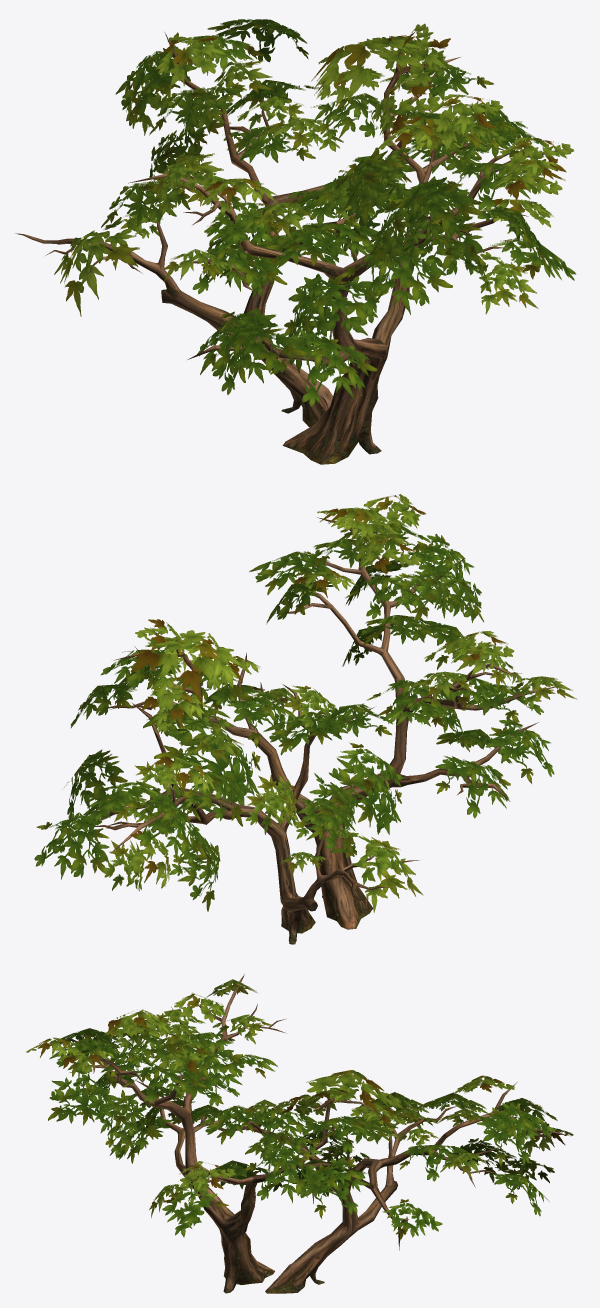
Rendered from q01a_tree_04.FBX.
The picture shows the model from 3 angles, top to bottom: view 1: azimuth 30°, elevation 25°; view 2: azimuth 150°, elevation 25°; view 3: azimuth 270°, elevation 25°; orthographic projection. The views are drawn at different scales.
Parts seen in each view (by area): view 1: q01a_tree_04_02, q01a_tree_04_01; view 2: q01a_tree_04_02, q01a_tree_04_01; view 3: q01a_tree_04_02, q01a_tree_04_01.
Part boxes in pixels (bbox=[...]): q01a_tree_04_02: bbox=[54, 19, 575, 406]; q01a_tree_04_01: bbox=[15, 31, 563, 464]; q01a_tree_04_02: bbox=[34, 494, 576, 912]; q01a_tree_04_01: bbox=[91, 517, 562, 944]; q01a_tree_04_02: bbox=[26, 979, 573, 1240]; q01a_tree_04_01: bbox=[69, 974, 570, 1293].
Size of the model in its own units: 746 by 1001 by 563.
